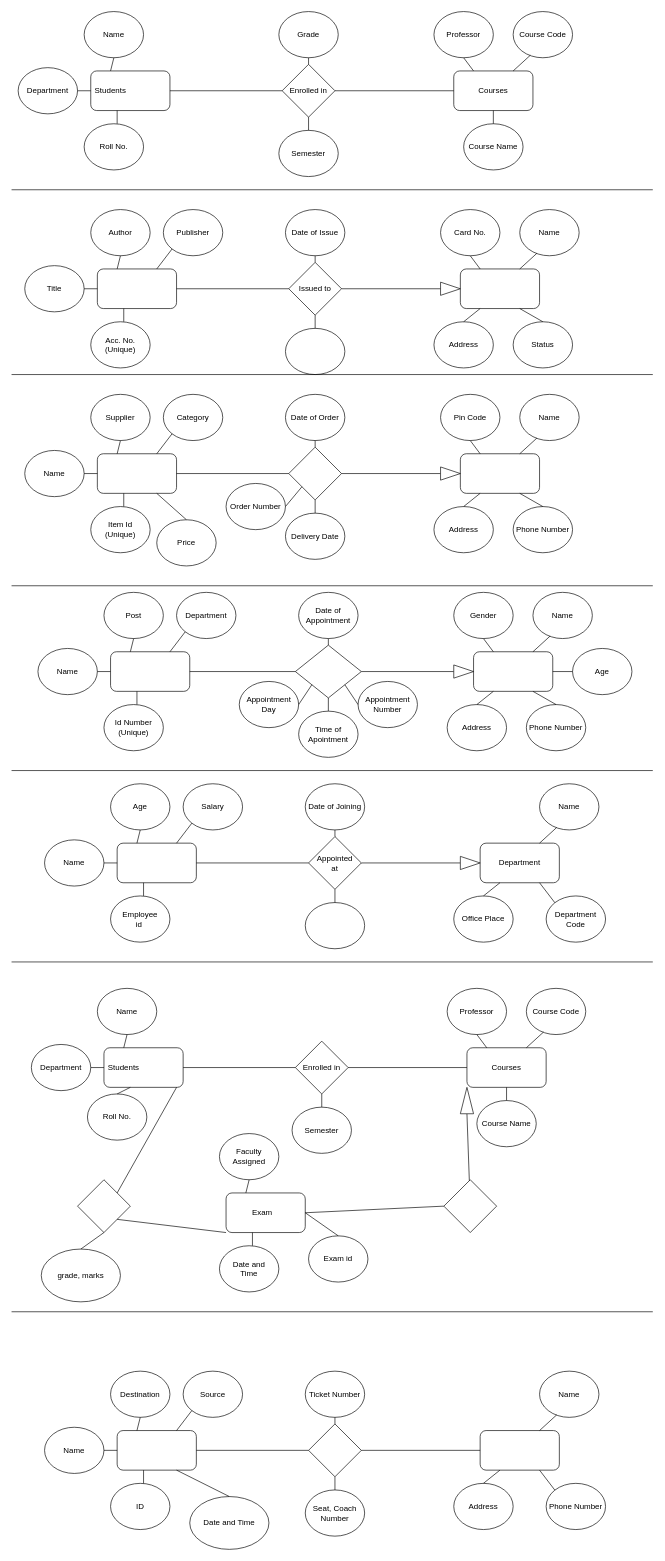
This 665x1561 diagram has some shape labels left out. The shapes that lost their labels are listed below. From the top down, each one's centre as x and y in pixels, then its label:
At (x=137, y=288): "Books".
At (x=500, y=288): "Member".
At (x=315, y=351): "Return Date".
At (x=137, y=473): "Product".
At (x=315, y=473): "Ordered by".
At (x=500, y=473): "User".
At (x=150, y=671): "Doctor".
At (x=328, y=671): "Appointment booked by".
At (x=513, y=671): "Patient".
At (x=156, y=862): "Employee".
At (x=335, y=925): "Position".
At (x=103, y=1206): "Apperadred".
At (x=470, y=1206): "Conducted for".
At (x=156, y=1450): "Train".
At (x=334, y=1450): "Ticket by".
At (x=519, y=1450): "Passanger".
